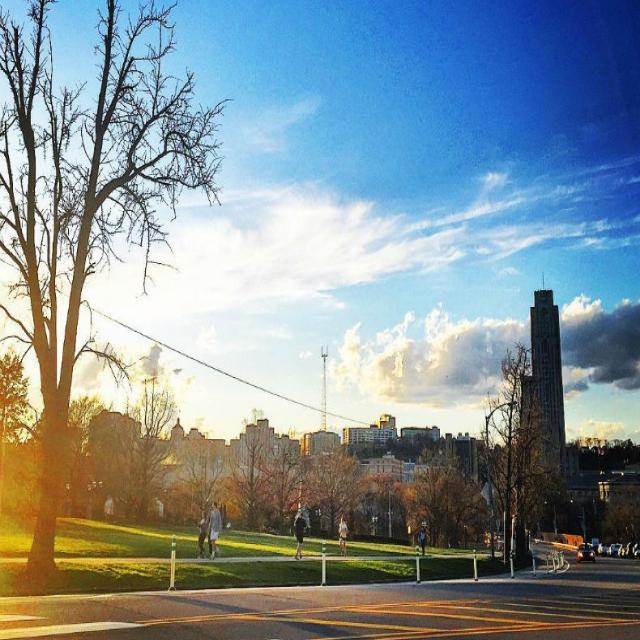body: (206, 500, 222, 560), (292, 510, 306, 561), (206, 503, 218, 559), (196, 509, 209, 560), (416, 524, 428, 558), (338, 512, 348, 551), (585, 544, 590, 552)
